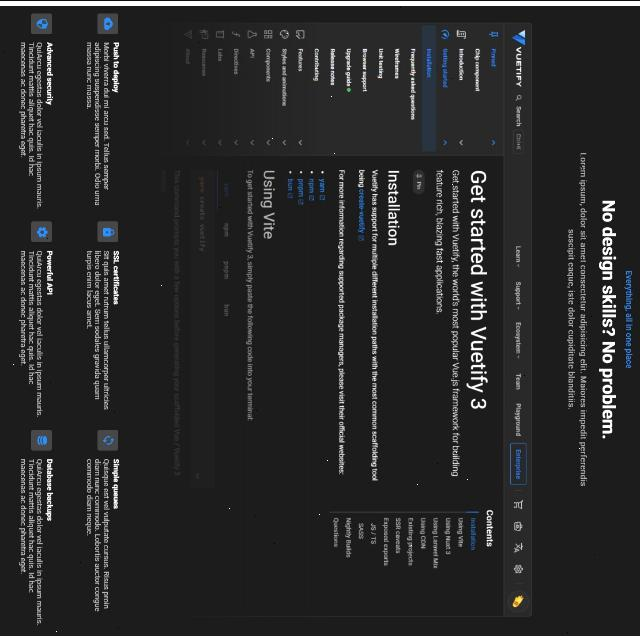QLabel: (18, 41, 44, 208), (18, 249, 44, 416), (84, 458, 110, 614), (19, 458, 43, 626), (86, 41, 110, 205), (86, 248, 110, 410), (600, 198, 616, 440), (579, 151, 587, 487), (566, 228, 574, 410), (624, 268, 632, 369), (46, 40, 54, 106), (46, 457, 54, 521), (112, 248, 120, 306), (112, 456, 120, 509), (112, 40, 120, 92), (46, 248, 54, 296)
VImg: (154, 19, 536, 619), (96, 12, 120, 34), (97, 429, 119, 451), (97, 220, 119, 242), (30, 220, 52, 242), (30, 12, 51, 34), (32, 430, 52, 450)
